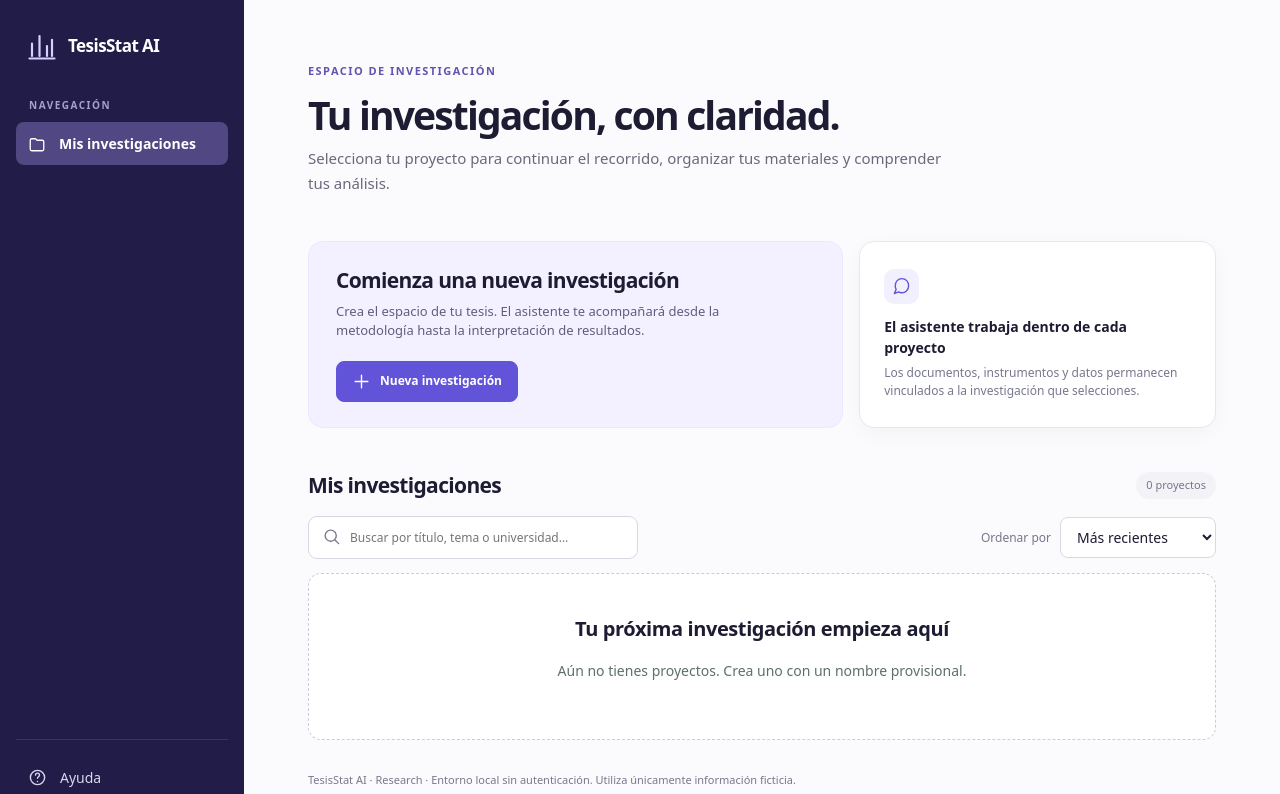
Test case: Research projects UI › preserves the form and displays API validation errors
Check: the heading "Tu próxima investigación empieza aquí" is shown, box [575,615,949,642]
Click the button "Nueva investigación": (427, 382) [336,361,518,402]
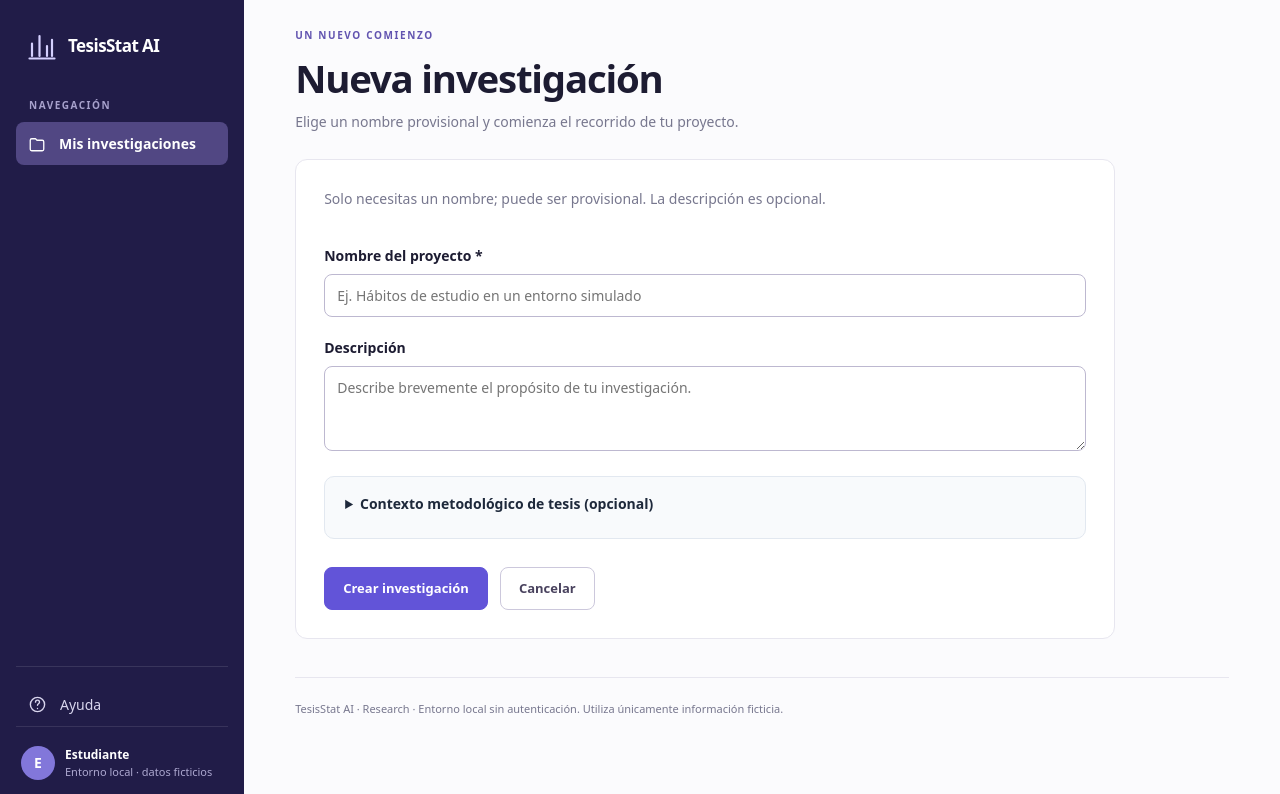
In the field labelled "Nombre del proyecto *": (705, 295) [324,274,1086,317], type "Investigación ficticia de ejemplo"
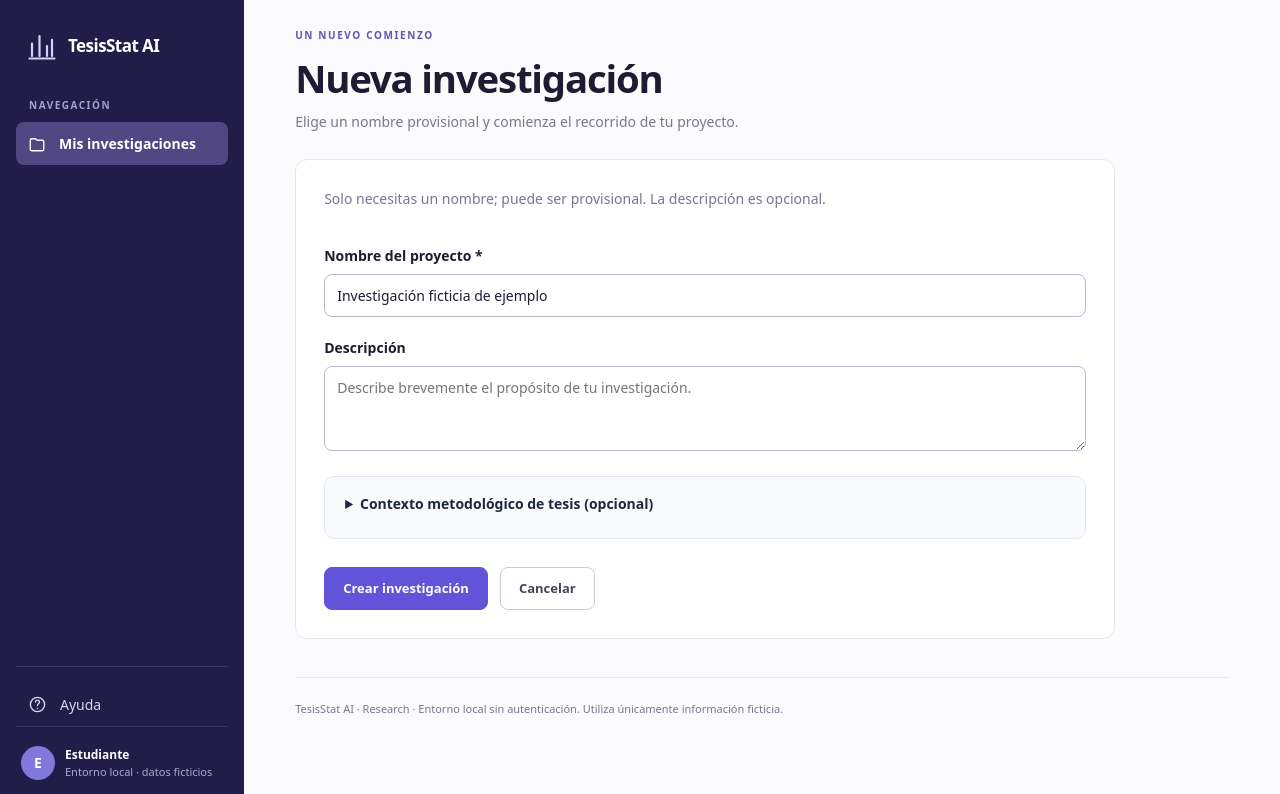
Click the button "Crear investigación": (406, 589) [324,567,488,610]
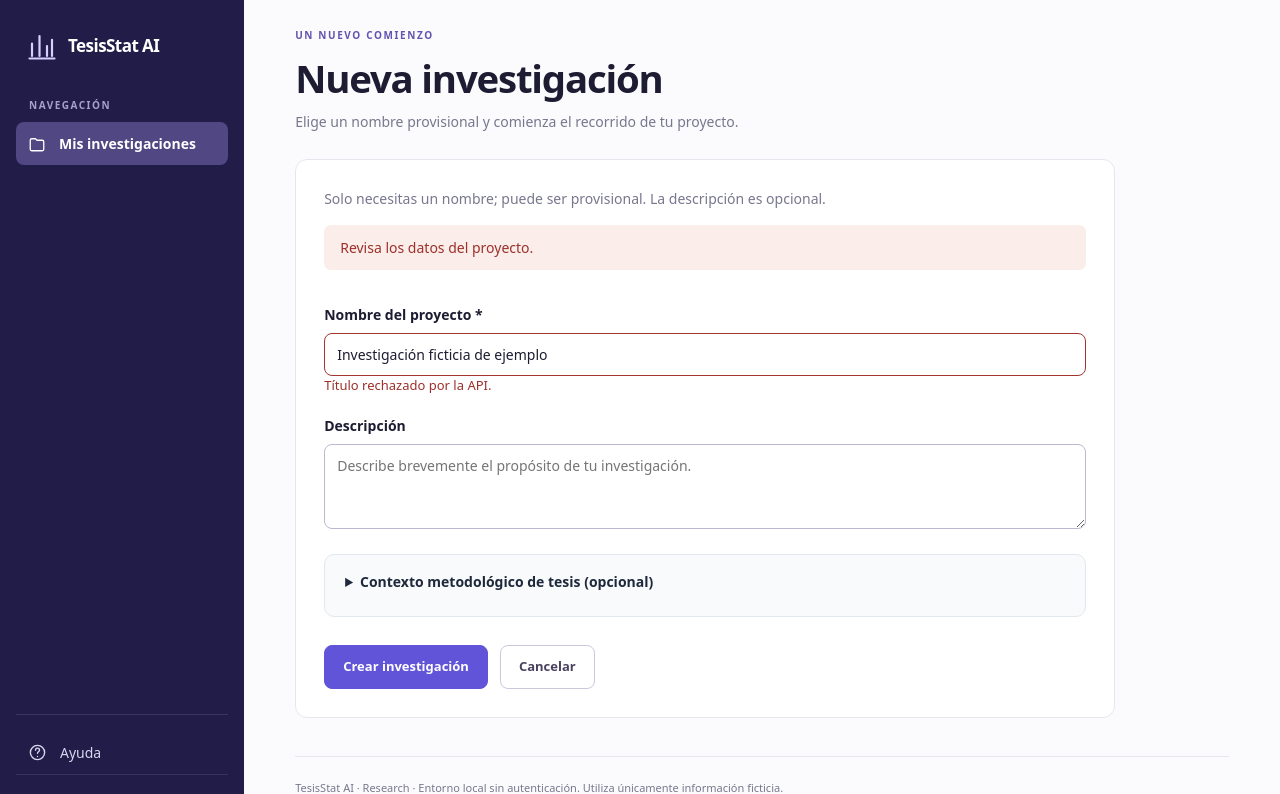
Check: the text "Título rechazado por la API." is shown, box [324,376,492,394]
Check: the message shows "Revisa los datos", box [340,238,533,257]
